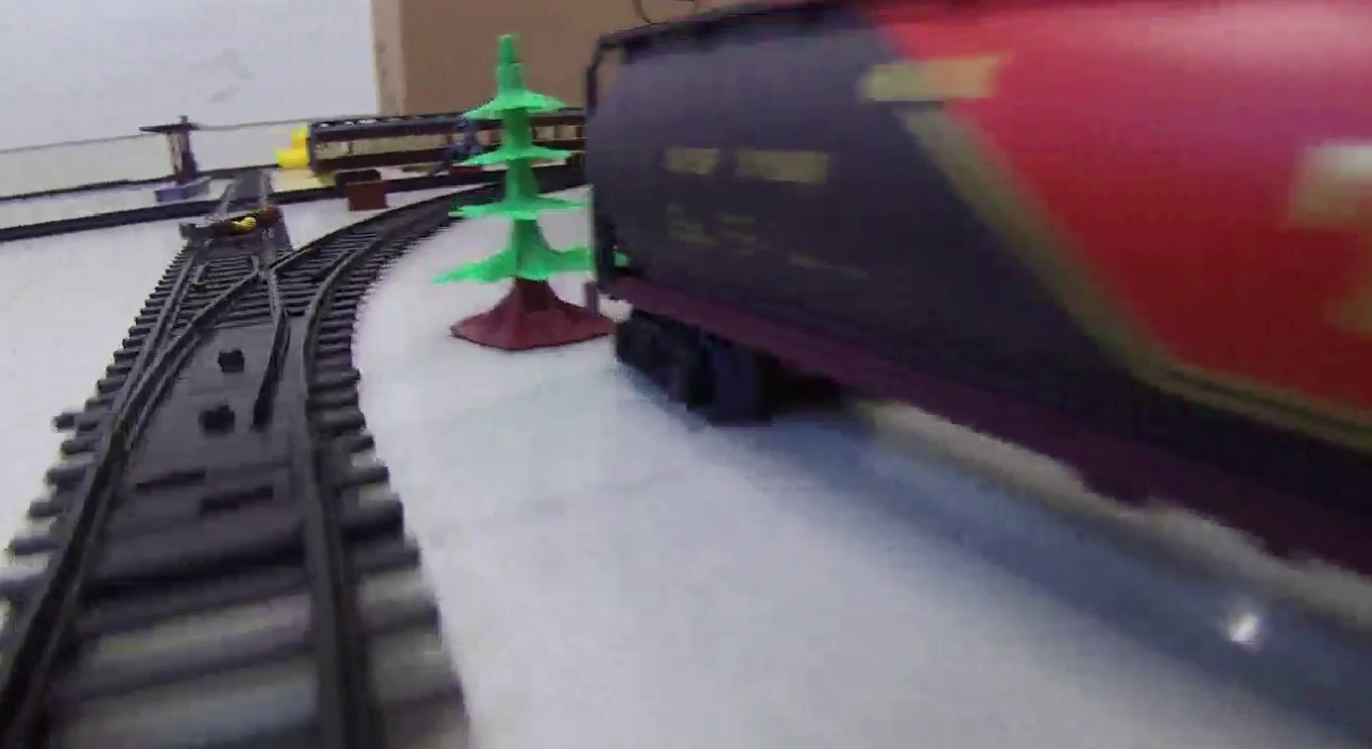box: (345, 177, 387, 213)
people: (173, 201, 286, 243)
tree: (432, 32, 591, 350)
